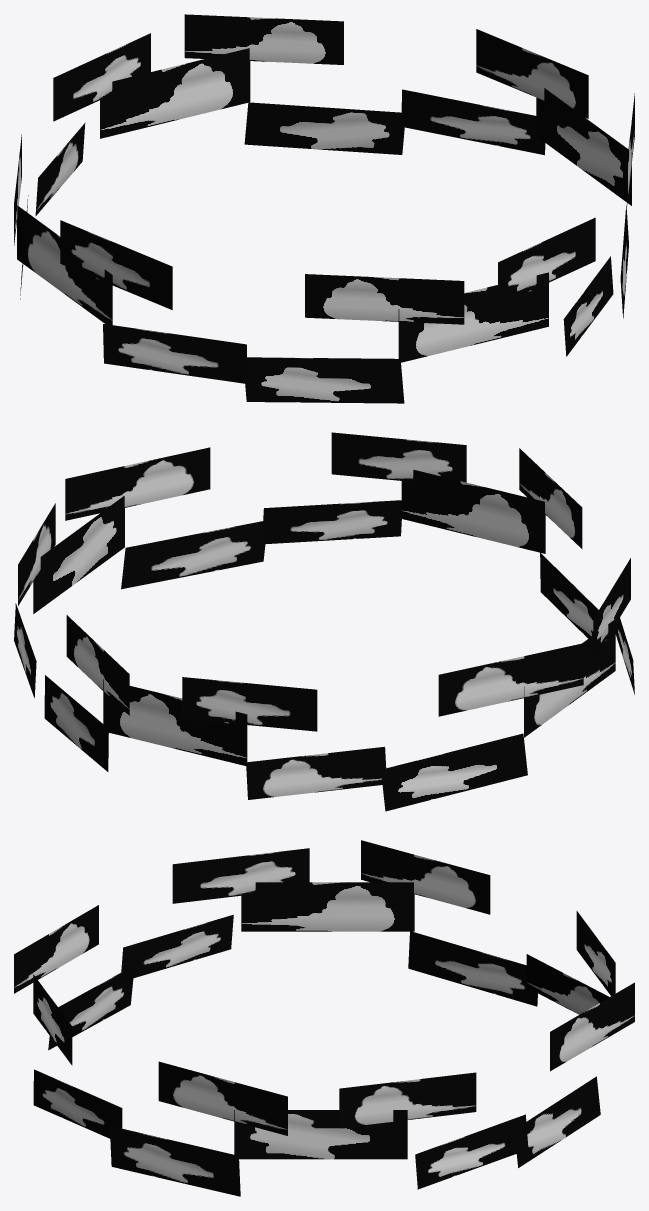
File: skybox_nuvens.glb
The picture shows the model from 3 angles, top to bottom: view 1: azimuth 30°, elevation 25°; view 2: azimuth 150°, elevation 25°; view 3: azimuth 270°, elevation 25°; orthographic projection. The views are drawn at different scales.
Parts seen in each view (by area): view 1: Plane; view 2: Plane; view 3: Plane.
Boxes of the visible parts, x1,y1,x2,y2 form: Plane: [14, 14, 634, 403]; Plane: [14, 432, 634, 811]; Plane: [14, 840, 634, 1196].
Size of the model in its own units: 17.82 by 3.84 by 18.23.
1 material, 1 textured.
